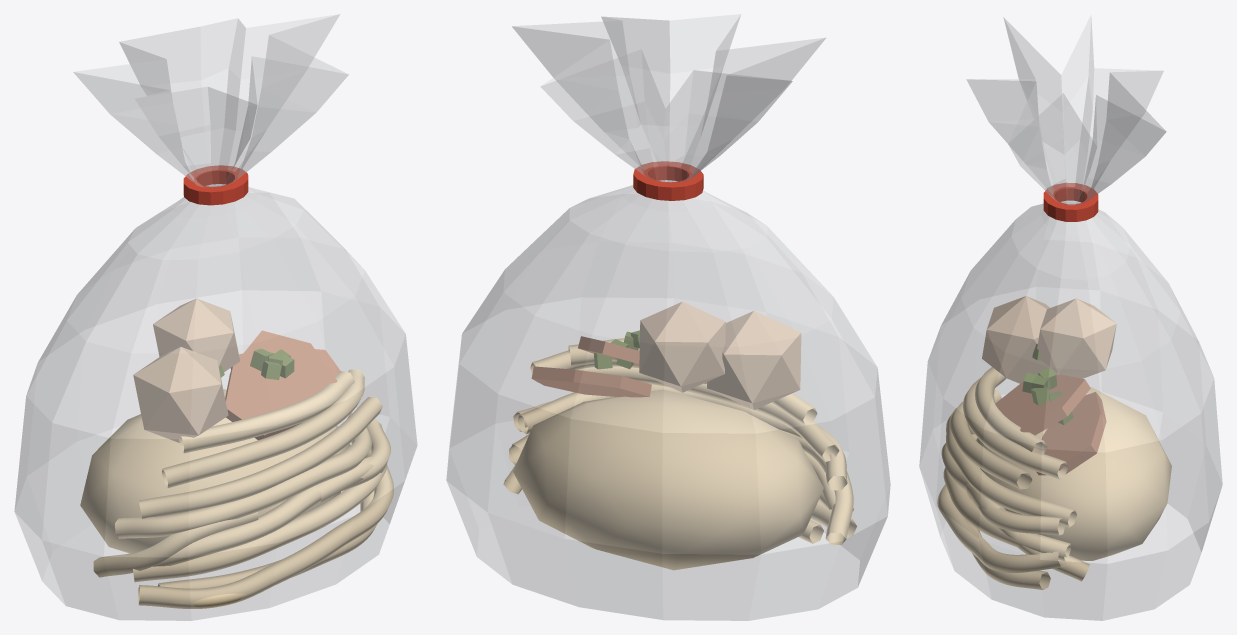
File: NoodleBag.fbx
3 views of the same model, side by side, from view 1: azimuth 30°, elevation 25°; view 2: azimuth 150°, elevation 25°; view 3: azimuth 270°, elevation 25° (orthographic). The views are drawn at different scales.
Visible parts, largest first — view 1: Noodle_Plastic_Bag, Noodles, Meatballs, Sliced_Pork, Noodle_Rubber_Band, Spring_Onions_Noodle; view 2: Noodle_Plastic_Bag, Noodles, Meatballs, Sliced_Pork, Noodle_Rubber_Band, Spring_Onions_Noodle; view 3: Noodle_Plastic_Bag, Noodles, Meatballs, Sliced_Pork, Noodle_Rubber_Band, Spring_Onions_Noodle.
Part boxes in pixels (x1,y1,x2,y2): Noodle_Plastic_Bag: (14,14,417,620); Noodles: (80,369,393,608); Meatballs: (133,298,240,442); Sliced_Pork: (225,330,340,440); Noodle_Rubber_Band: (183,165,248,205); Spring_Onions_Noodle: (219,348,294,379); Noodle_Plastic_Bag: (446,14,890,620); Noodles: (503,338,856,570); Meatballs: (639,301,801,409); Sliced_Pork: (531,336,706,397); Noodle_Rubber_Band: (633,161,703,200); Spring_Onions_Noodle: (594,330,639,369); Noodle_Plastic_Bag: (919,16,1222,620); Noodles: (937,367,1171,589); Meatballs: (982,296,1116,383); Sliced_Pork: (995,374,1106,475); Noodle_Rubber_Band: (1043,182,1098,221); Spring_Onions_Noodle: (1022,343,1073,424).
Bounding box in the file's own units: 201 × 253 × 146.
